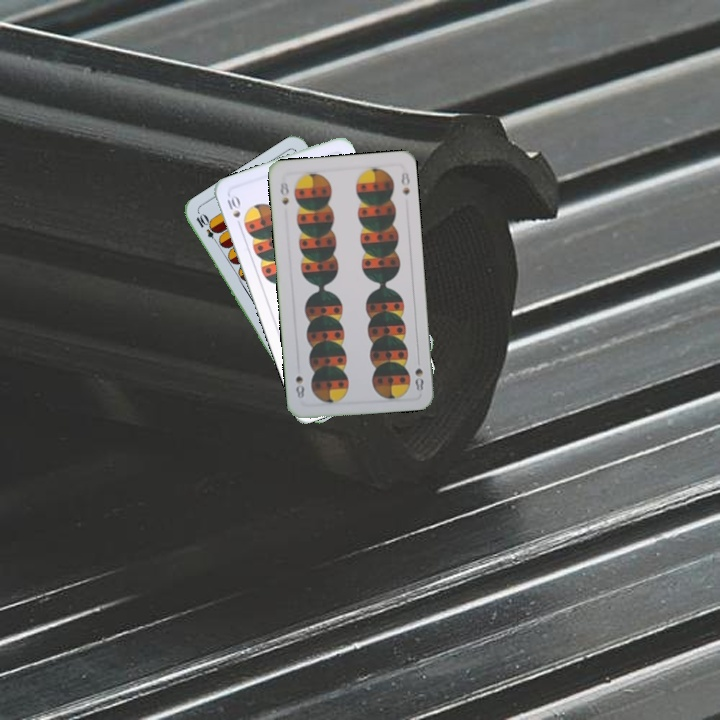E10: (192, 210, 222, 247)
S10: (223, 191, 244, 231)
S8: (276, 178, 291, 208), (411, 364, 426, 394)
